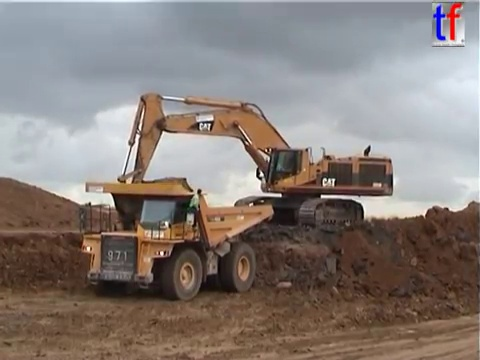excavator: (114, 90, 397, 234)
truck: (77, 179, 275, 302)
worker: (186, 186, 205, 230)
